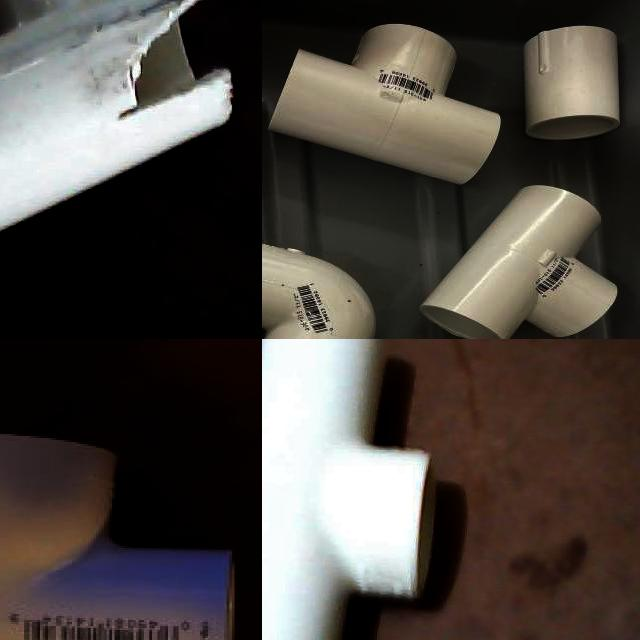Defective: (122, 0, 239, 139), (134, 0, 234, 107)
L Joint: (0, 435, 237, 640), (262, 244, 378, 339)
T Joint: (262, 339, 438, 640), (268, 23, 503, 188), (419, 185, 617, 339)
